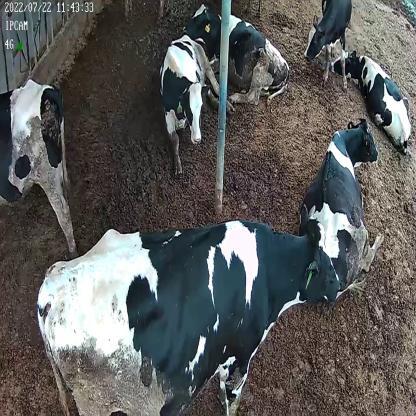cow: (37, 205, 341, 416), (296, 121, 386, 299), (189, 3, 291, 102), (160, 32, 234, 168), (332, 47, 412, 156), (306, 0, 352, 88)
